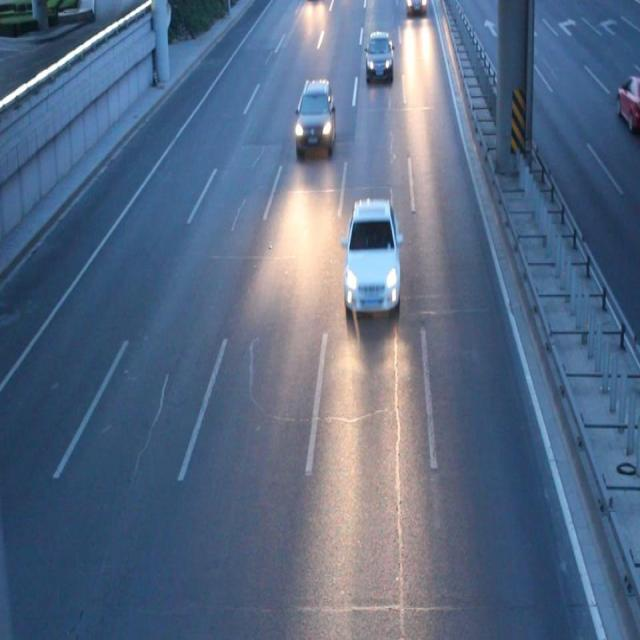car: (340, 198, 400, 312), (293, 79, 335, 154), (365, 32, 393, 82)
